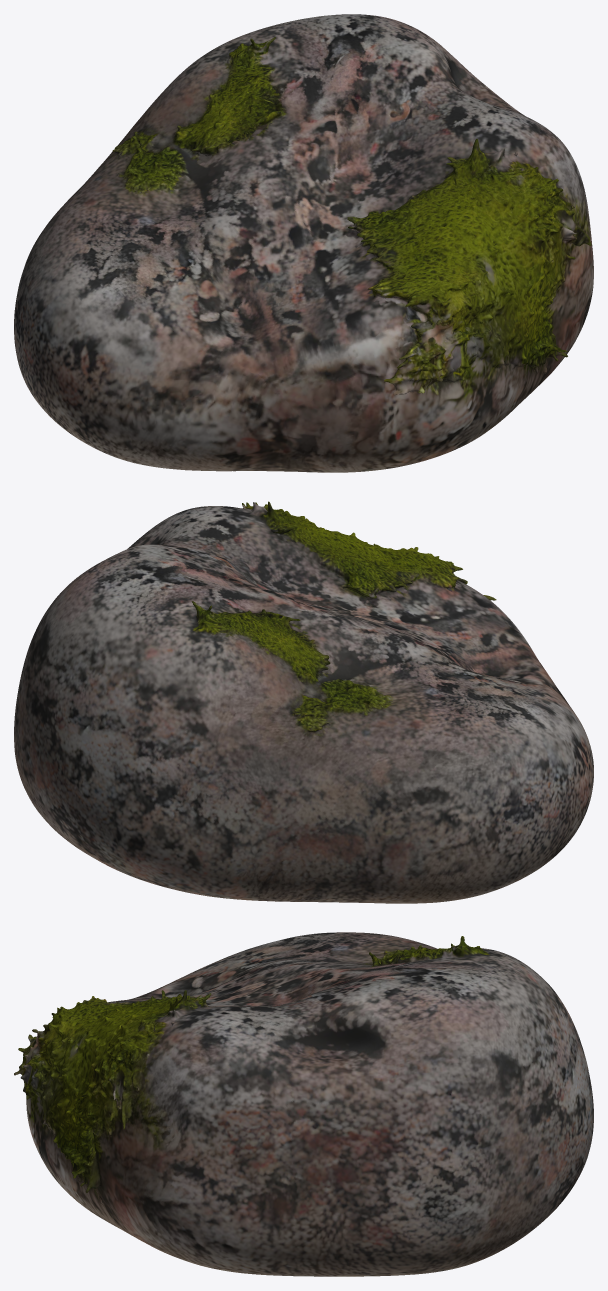
File: rock with moss 3d model.glb
3 renders of one model, top to bottom at view 1: azimuth 30°, elevation 25°; view 2: azimuth 150°, elevation 25°; view 3: azimuth 270°, elevation 25°, orthographic. The views are drawn at different scales.
Parts seen in each view (by area): view 1: tripo_node_9f2ca793-40db-4f77-ba25-ef56356a6cb4; view 2: tripo_node_9f2ca793-40db-4f77-ba25-ef56356a6cb4; view 3: tripo_node_9f2ca793-40db-4f77-ba25-ef56356a6cb4.
Part boxes in pixels (<box>): tripo_node_9f2ca793-40db-4f77-ba25-ef56356a6cb4: <box>14,14,593,472</box>; tripo_node_9f2ca793-40db-4f77-ba25-ef56356a6cb4: <box>14,501,593,903</box>; tripo_node_9f2ca793-40db-4f77-ba25-ef56356a6cb4: <box>14,932,593,1276</box>.
Size of the model in its own units: 0.9839 by 0.5398 by 1.
1 material, 1 textured.
